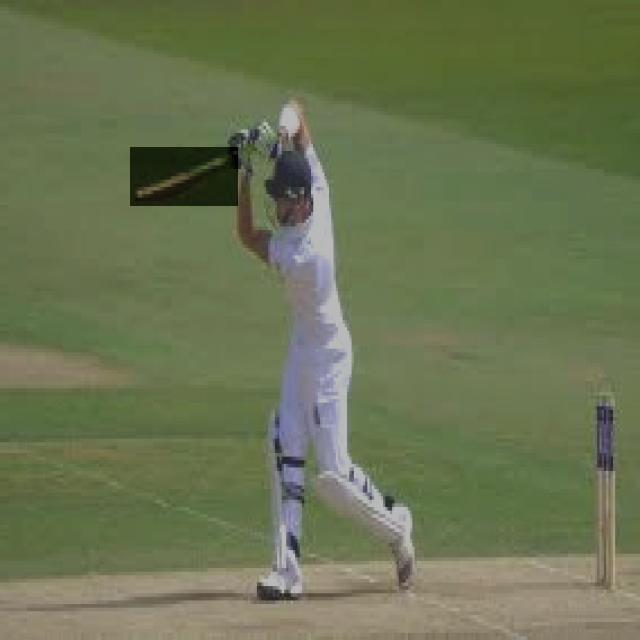bat: (131, 148, 241, 209)
toe: (130, 188, 148, 205)
